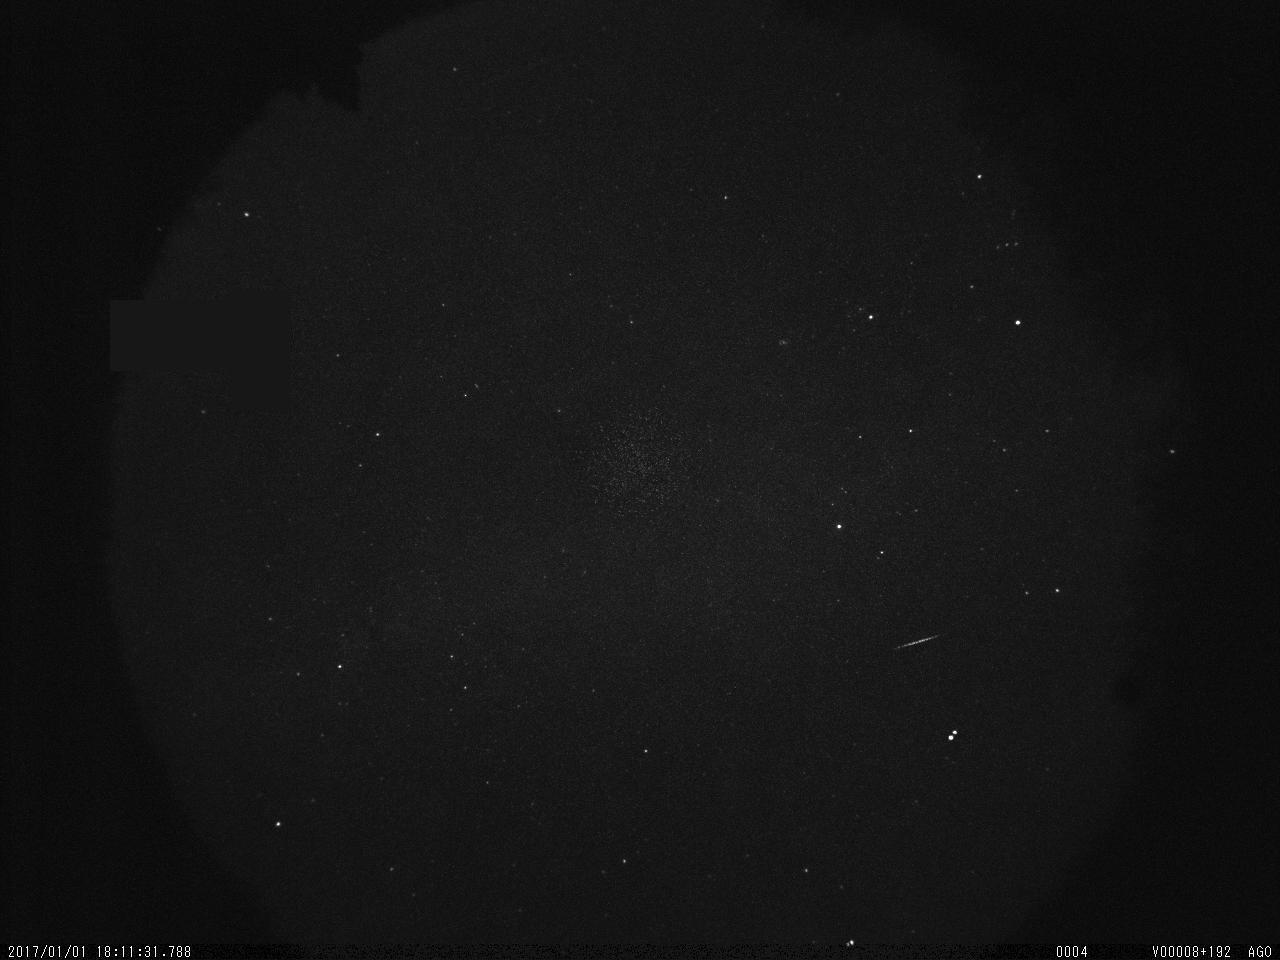meteor: (883, 624, 956, 663)
